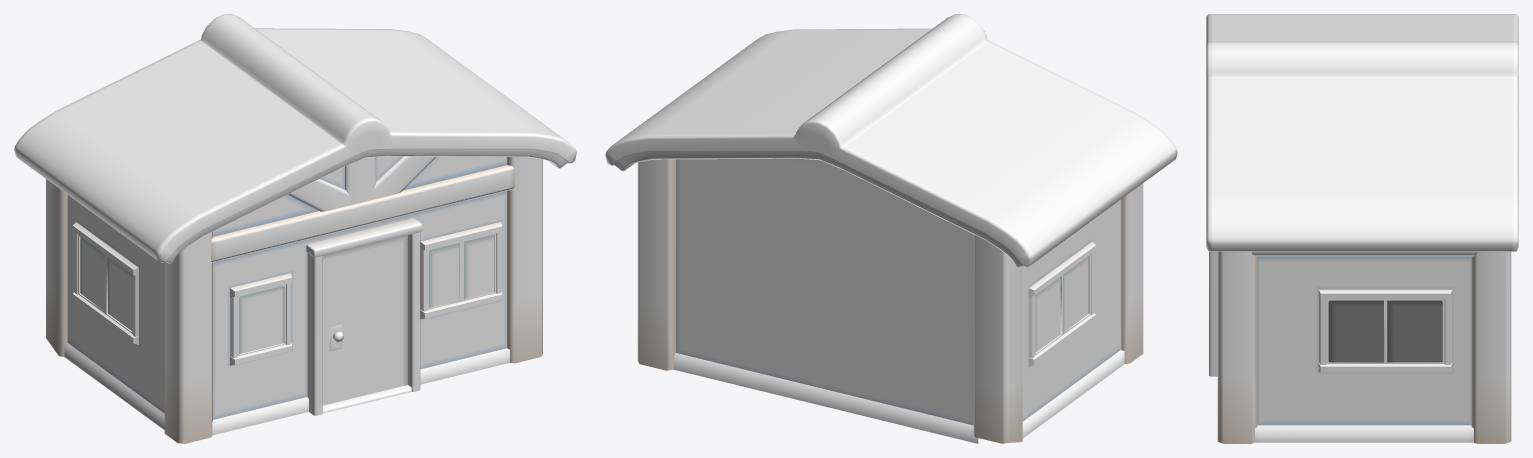
The model's file is lavender-house.glb.
3 views of the same model, side by side, from view 1: azimuth 30°, elevation 25°; view 2: azimuth 150°, elevation 25°; view 3: azimuth 270°, elevation 25° (orthographic). The views are drawn at different scales.
Parts seen in each view (by area): view 1: lavender-house; view 2: lavender-house; view 3: lavender-house.
Part boxes in pixels (<box>): lavender-house: <box>14,14,576,443</box>; lavender-house: <box>605,14,1177,443</box>; lavender-house: <box>1206,14,1518,443</box>.
Size of the model in its own units: 5.07 by 3.28 by 3.05.
